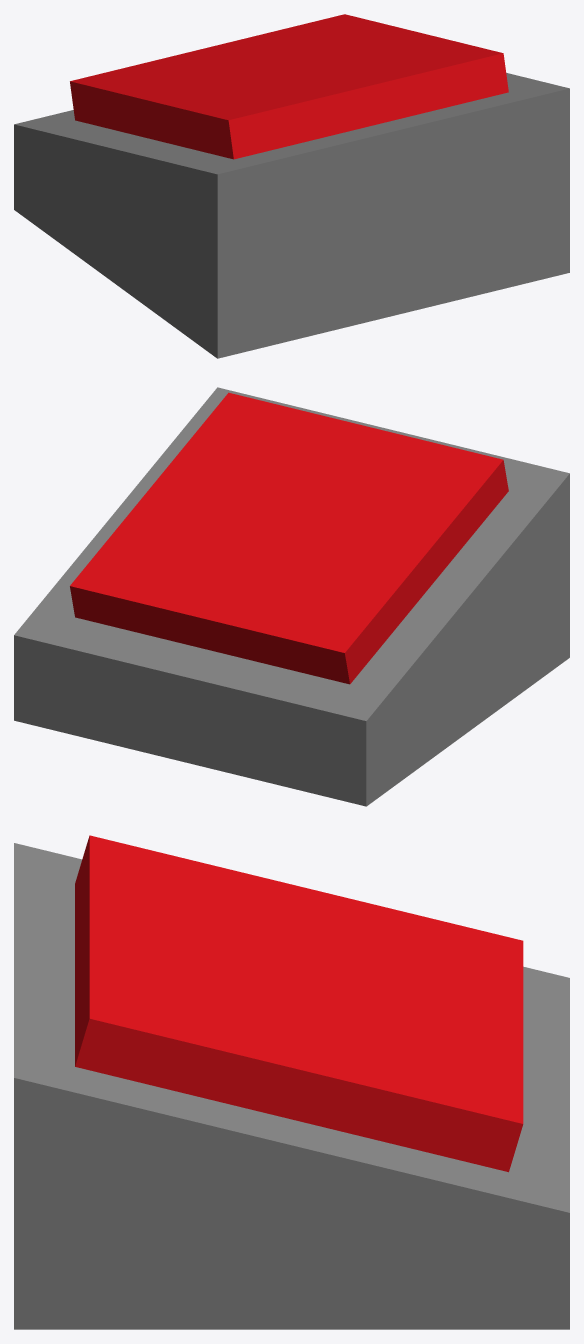
The model's file is button.glb.
The picture shows the model from 3 angles, top to bottom: view 1: azimuth 30°, elevation 25°; view 2: azimuth 150°, elevation 25°; view 3: azimuth 270°, elevation 25°; orthographic projection. The views are drawn at different scales.
Parts seen in each view (by area): view 1: button; view 2: button; view 3: button.
Boxes of the visible parts, left/top/right/bottom form: button: left=14, top=14, right=569, bottom=358; button: left=14, top=387, right=569, bottom=806; button: left=14, top=835, right=569, bottom=1329.
Bounding box in the file's own units: 0.1459 × 0.0826 × 0.1459.
